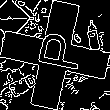P_W: (27, 32, 83, 78)
